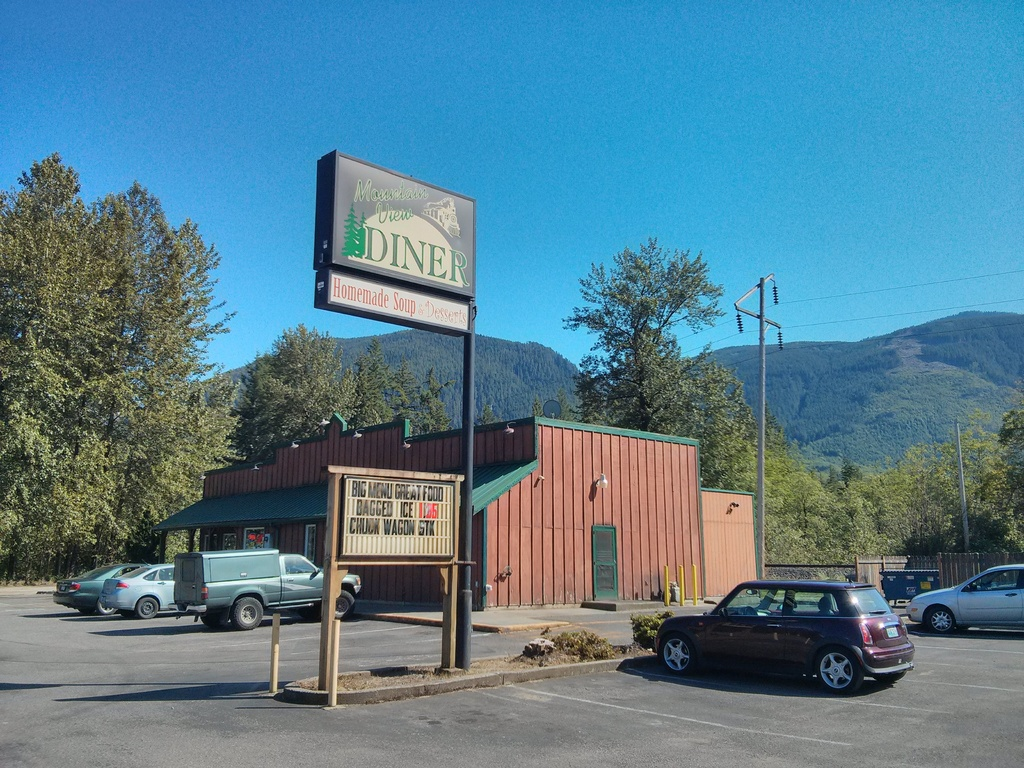Car: (643, 576, 908, 694), (909, 563, 1023, 635), (98, 560, 183, 620), (53, 562, 144, 614)
